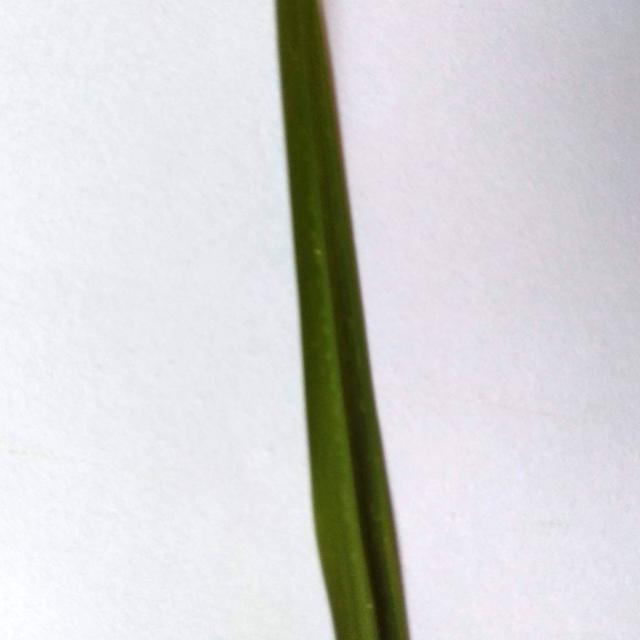Rice_Healthy: (276, 0, 408, 640)
